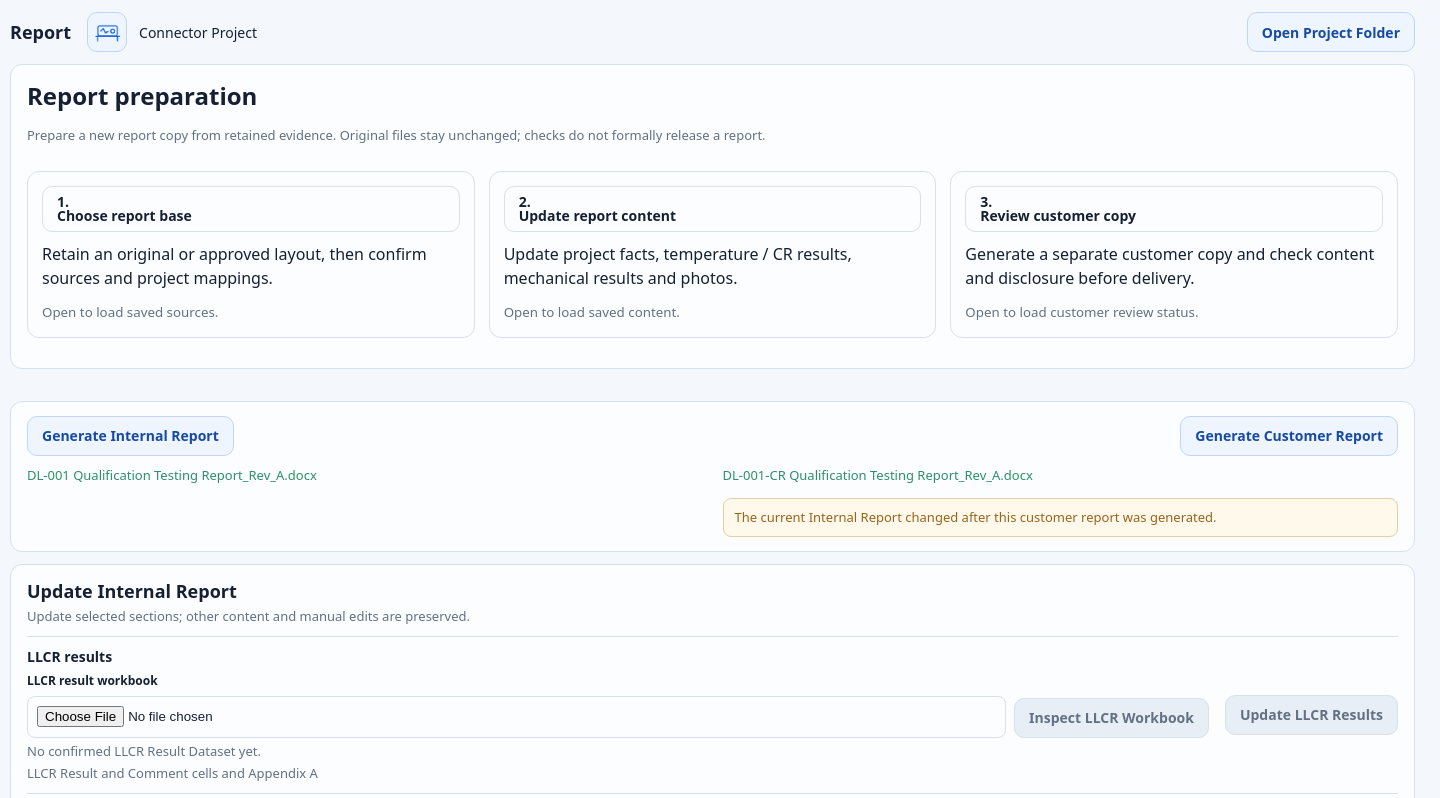
ReportWorkspace › shows backend folder-opening blockers without accepting the displayed path as input
The width and height of the screenshot is (1440, 798).
Click the button "Open Project Folder": (1331, 32) [1247,12,1415,52]
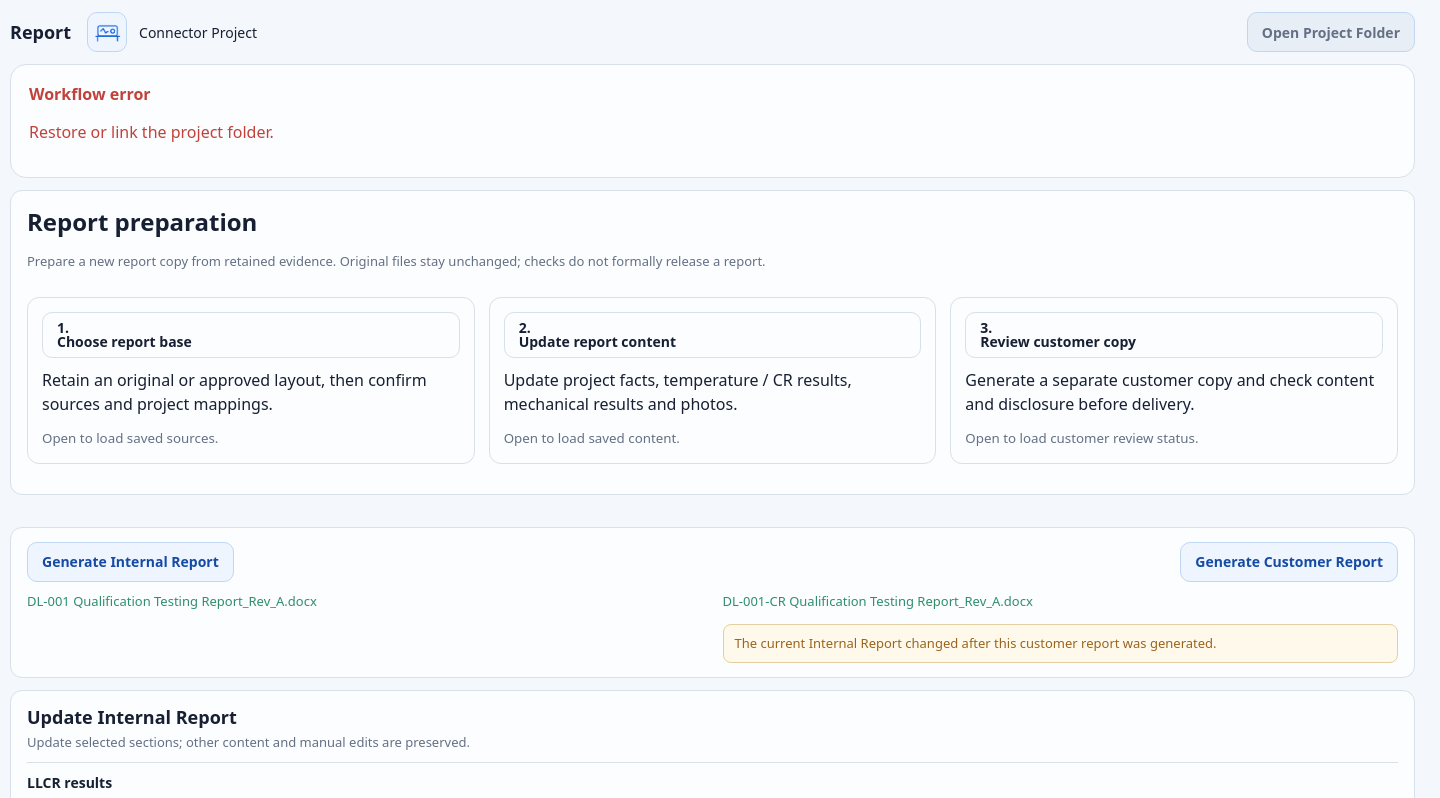
Check: the message shows "Restore or link the project folder.", box [29,121,274,143]
Check: the button "Open Project Folder" is disabled, box [1247,12,1415,52]
Check: the text "Restore or link the project folder." is shown, box [29,121,274,143]
